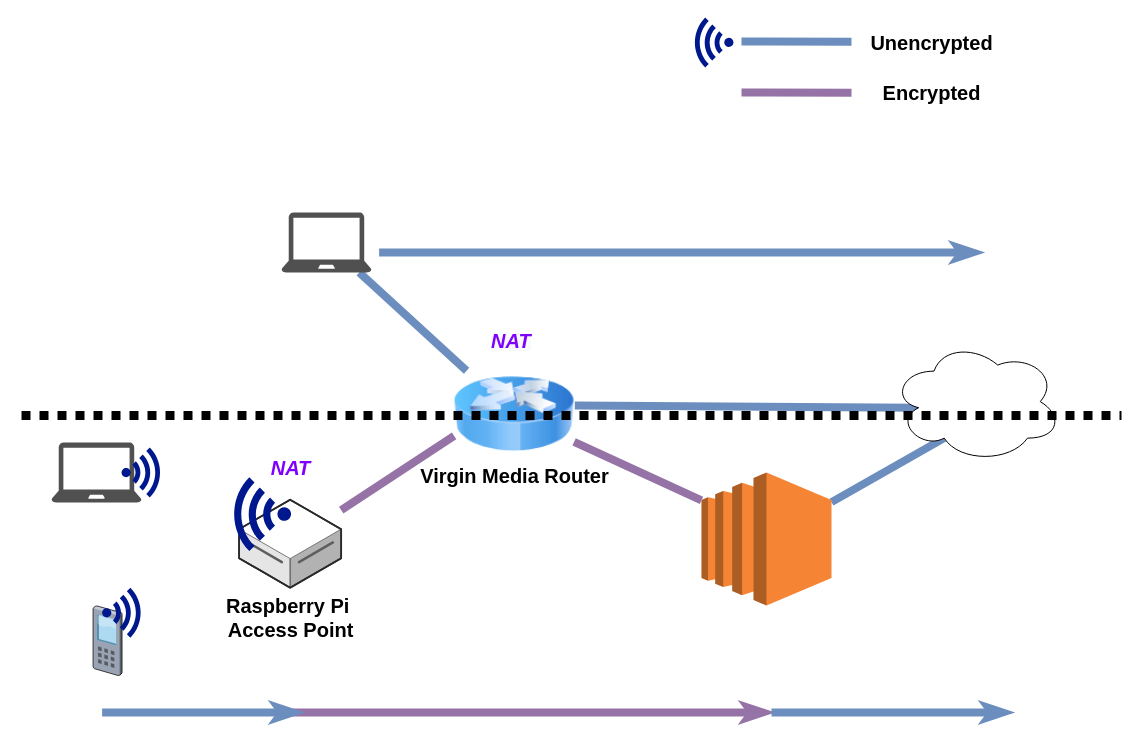
This 1144x741 diagram has some shape labels left out. The centre of each missing label's shape, as x and y in pixels:
EC2 Wireguard Server: pixel 766 539
Internet: pixel 976 401
